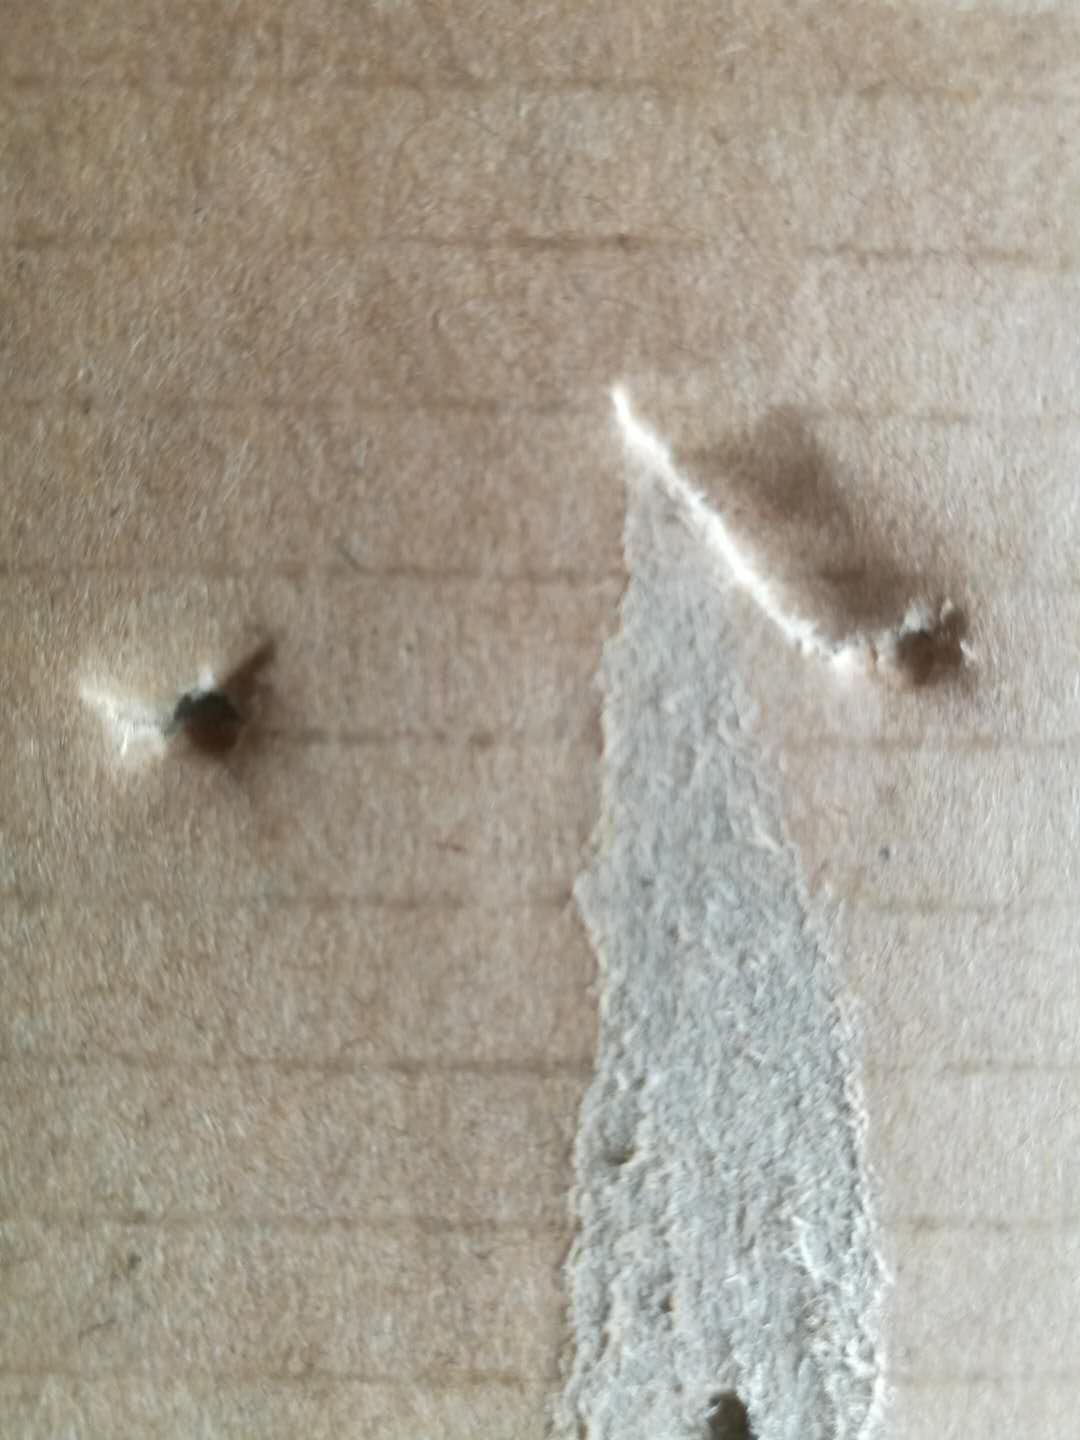defect: (515, 461, 919, 1440), (579, 342, 1033, 728), (45, 567, 334, 835)
